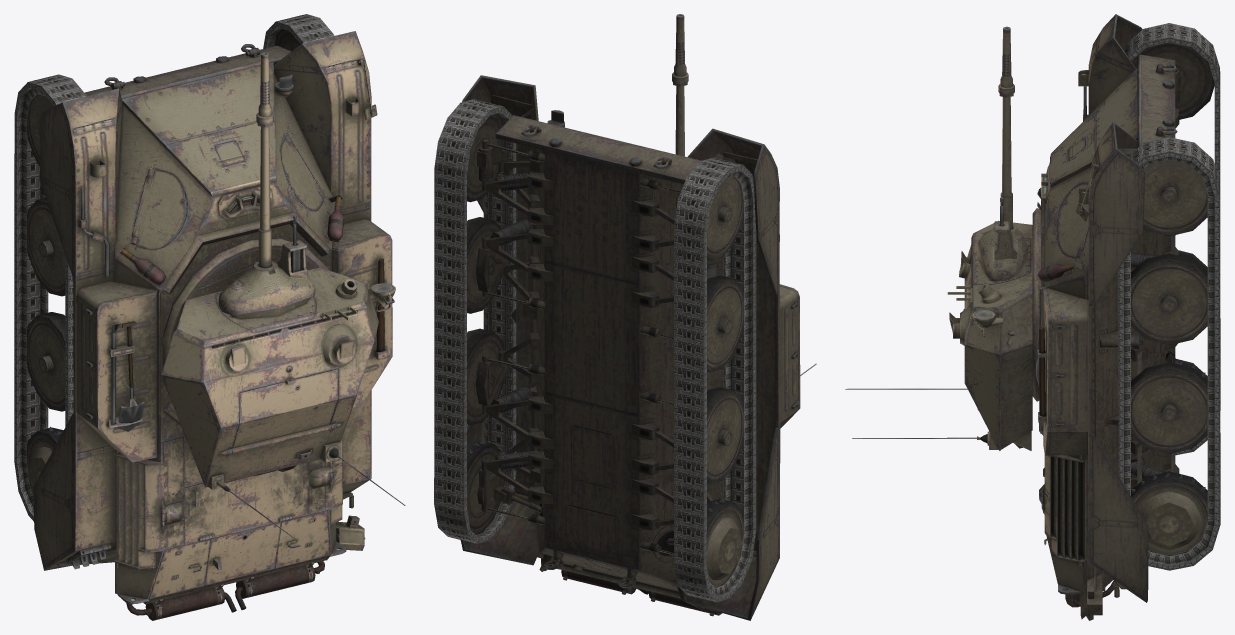
3 views of the same model, side by side, from view 1: azimuth 30°, elevation 25°; view 2: azimuth 150°, elevation 25°; view 3: azimuth 270°, elevation 25° (orthographic). The views are drawn at different scales.
Visible parts, largest first — view 1: hull_nc, hull, turret_01, chassis_track_L, gun_01_mask, chassis_wheel_L_03, turret_01_nc, chassis_wheel_L_02, gun_01, chassis_track_R, chassis_wheel_L_04, chassis_wheel_L_01; view 2: hull, hull_nc, chassis_track_L, chassis_track_R, chassis_wheel_L_02, chassis_wheel_L_03, chassis_wheel_L_04, chassis_wheel_L_01, chassis_wheel_R_03, chassis_wheel_R_04, chassis_wheel_R_02, gun_01 (+1 smaller); view 3: hull_nc, hull, turret_01, chassis_track_R, chassis_wheel_R_02, chassis_wheel_R_03, chassis_wheel_R_04, chassis_wheel_R_01, chassis_track_L, chassis_wheel_L_01, gun_01_mask, gun_01 (+1 smaller).
Boxes of the visible parts, box(x1,y1,x2,y2) form: hull_nc: box(33, 31, 392, 620); hull: box(85, 45, 346, 604); turret_01: box(161, 238, 378, 487); chassis_track_L: box(14, 74, 86, 521); gun_01_mask: box(218, 240, 315, 314); chassis_wheel_L_03: box(27, 312, 65, 411); turret_01_nc: box(208, 278, 405, 539); chassis_wheel_L_02: box(27, 198, 65, 296); gun_01: box(256, 52, 273, 267); chassis_track_R: box(263, 14, 334, 48); chassis_wheel_L_04: box(27, 426, 63, 493); chassis_wheel_L_01: box(27, 94, 53, 165); hull: box(495, 115, 723, 591); hull_nc: box(460, 75, 800, 620); chassis_track_L: box(674, 157, 756, 602); chassis_track_R: box(434, 99, 516, 543); chassis_wheel_L_02: box(707, 275, 743, 372); chassis_wheel_L_03: box(707, 387, 743, 483); chassis_wheel_L_04: box(706, 498, 743, 587); chassis_wheel_L_01: box(707, 176, 743, 260); chassis_wheel_R_03: box(467, 328, 504, 425); chassis_wheel_R_04: box(467, 439, 505, 534); chassis_wheel_R_02: box(467, 217, 505, 313); gun_01: box(672, 14, 688, 156); hull_nc: box(1035, 14, 1180, 620); hull: box(1041, 54, 1175, 594); turret_01: box(949, 208, 1044, 450); chassis_track_R: box(1118, 137, 1220, 570); chassis_wheel_R_02: box(1131, 253, 1207, 345); chassis_wheel_R_03: box(1131, 362, 1207, 454); chassis_wheel_R_04: box(1131, 471, 1207, 556); chassis_wheel_R_01: box(1143, 160, 1207, 236); chassis_track_L: box(1124, 23, 1220, 455); chassis_wheel_L_01: box(1132, 42, 1214, 119); gun_01_mask: box(977, 221, 1028, 280); gun_01: box(998, 26, 1014, 228).
Bounding box in the file's own units: 2.74 × 4.79 × 2.98.
2 materials, 2 textured.
